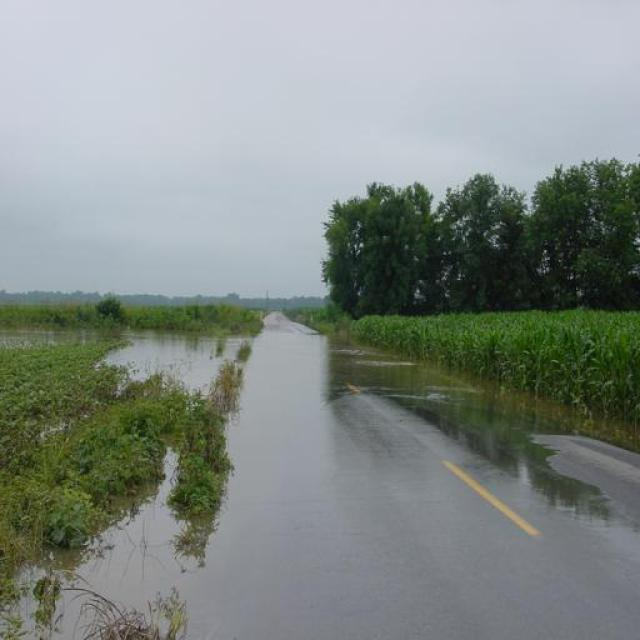puddle: (139, 337, 431, 393)
